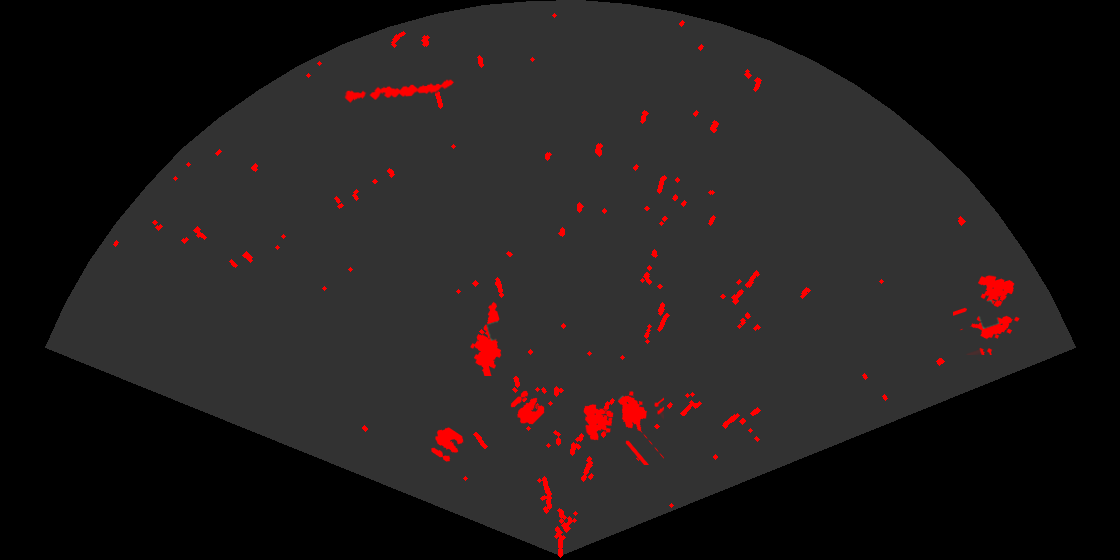ball: (509, 389, 546, 426), (430, 426, 465, 463)
cage: (582, 390, 664, 465), (953, 274, 1021, 355)
chain: (342, 78, 455, 105)
frogman: (469, 300, 503, 376)
